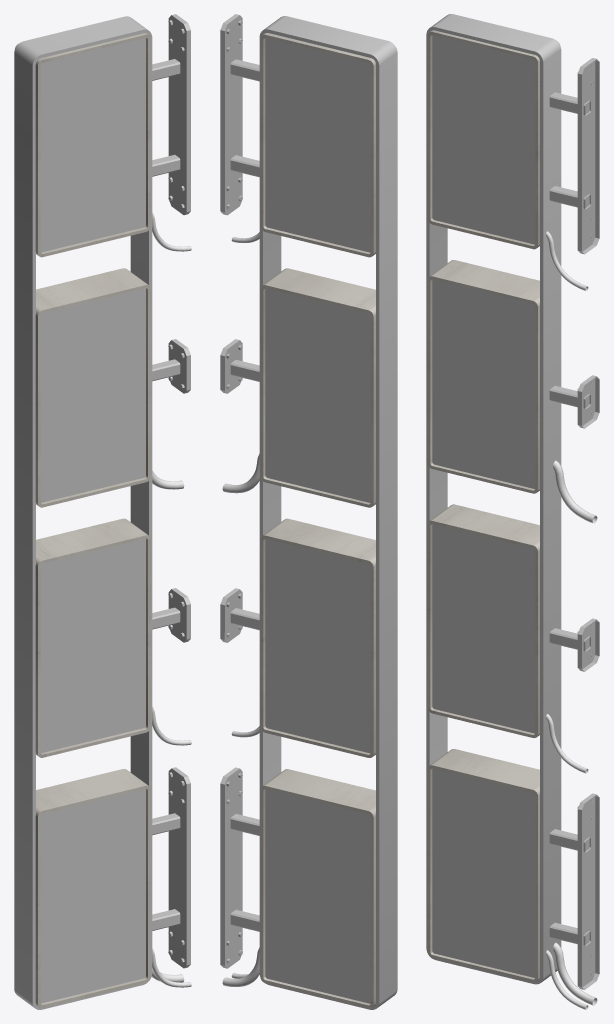
File: KB3D_CBP_Billboard_U.fbx
3 views of the same model, side by side, from view 1: azimuth 30°, elevation 25°; view 2: azimuth 150°, elevation 25°; view 3: azimuth 330°, elevation 25° (orthographic). The views are drawn at different scales.
Parts seen in each view (by area): view 1: KB3D_CBP_Billboard_U_Main; view 2: KB3D_CBP_Billboard_U_Main; view 3: KB3D_CBP_Billboard_U_Main.
Boxes of the visible parts, bbox=[...] form: KB3D_CBP_Billboard_U_Main: bbox=[14, 14, 191, 1009]; KB3D_CBP_Billboard_U_Main: bbox=[220, 14, 397, 1009]; KB3D_CBP_Billboard_U_Main: bbox=[426, 14, 599, 1009].
Size of the model in its own units: 124 by 715 by 30.59.
